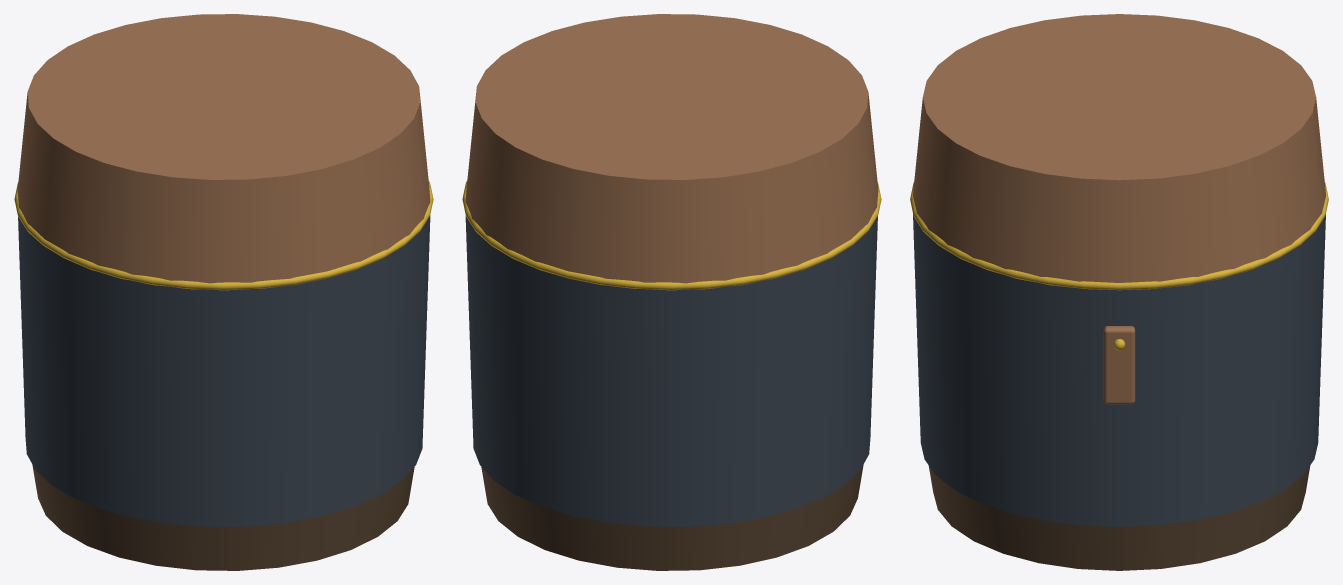
The model's file is campus-pouf-slate.glb.
3 views of the same model, side by side, from view 1: azimuth 30°, elevation 25°; view 2: azimuth 150°, elevation 25°; view 3: azimuth 270°, elevation 25° (orthographic).
Size of the model in its own units: 0.4394 by 0.4422 by 0.4248.
